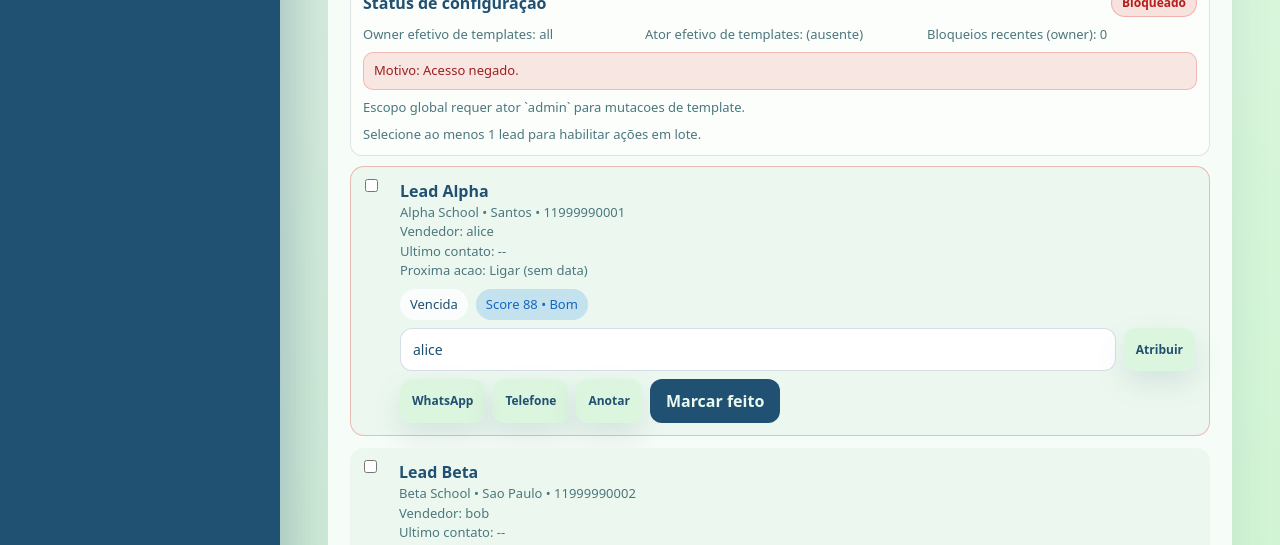
it: SDR page › shows backend error when batch assign fails
(page scrolled)
Check: the text "Lead Alpha" is shown, box [400,180,489,202]
Click the checkbox named "Selecionar lead 1".
click(372, 185)  # box [365,178,378,192]
(page scrolled)
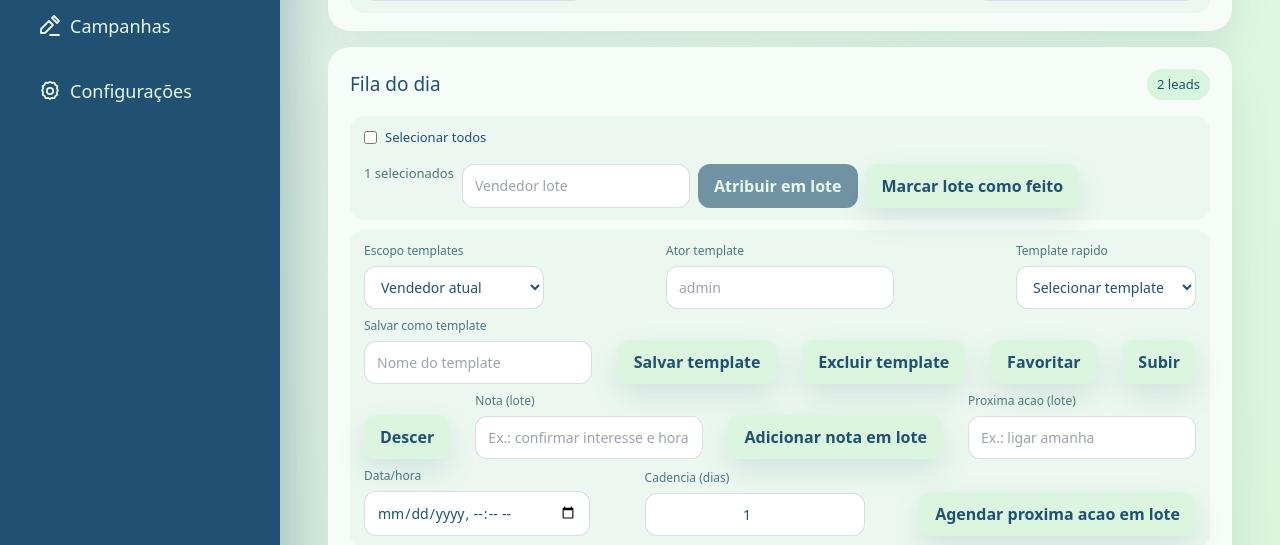
Type "danilo" into the field with placeholder "Vendedor lote".
click(576, 186); type("danilo")  # box [462,164,690,208]
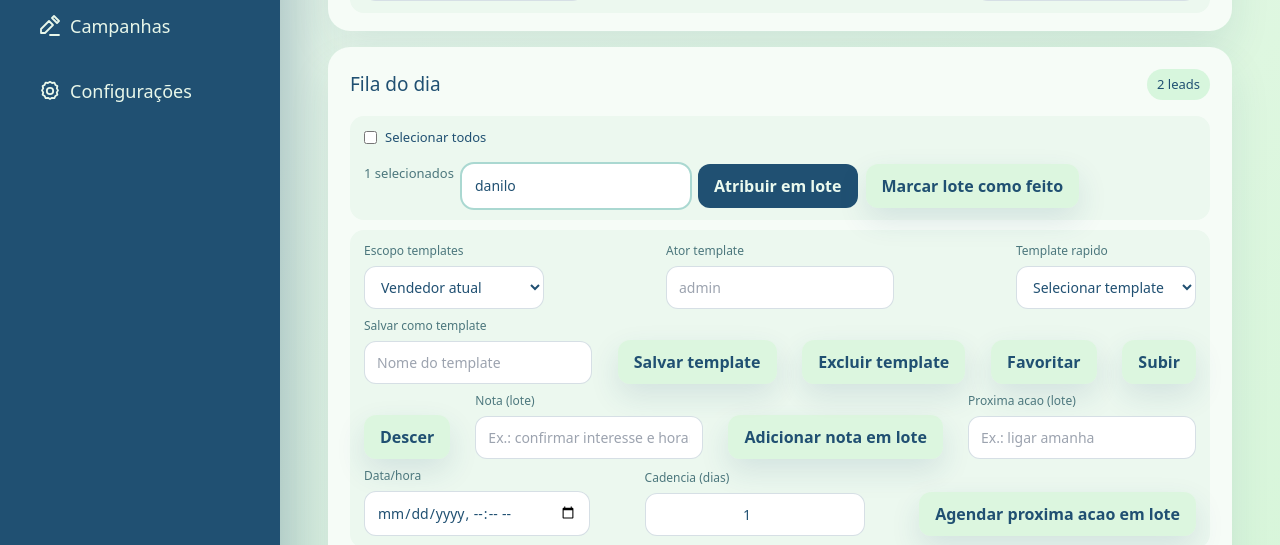
Click the button "Atribuir em lote".
click(778, 186)  # box [698,164,858,208]
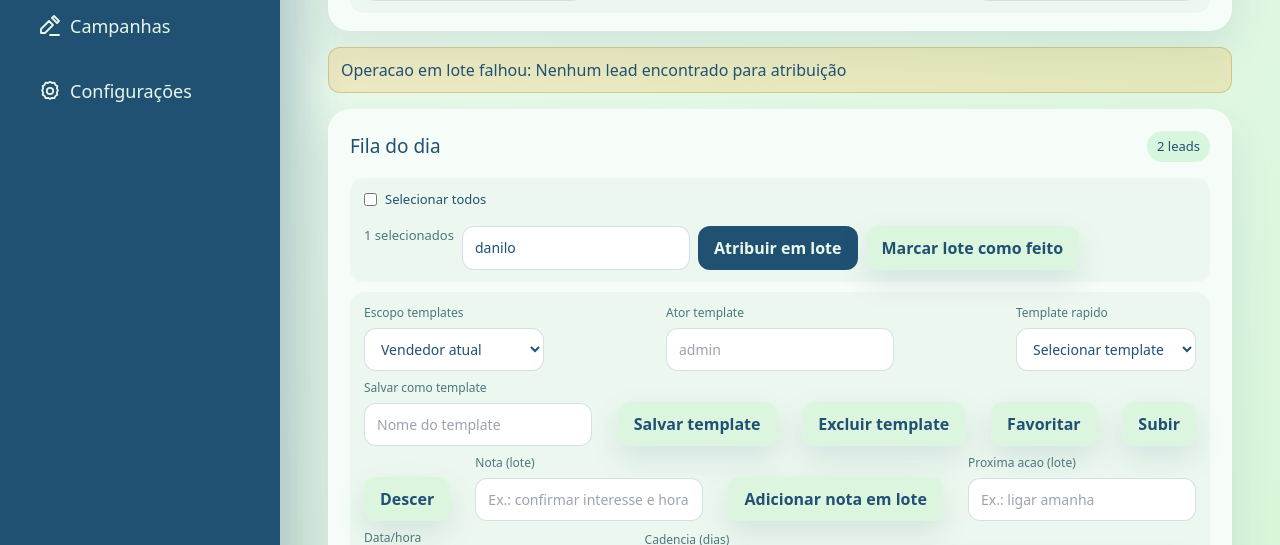
Check: the text "Operacao em lote falhou: Nenhum lead encontrado para atribuição" is shown, box [328,46,1232,92]
